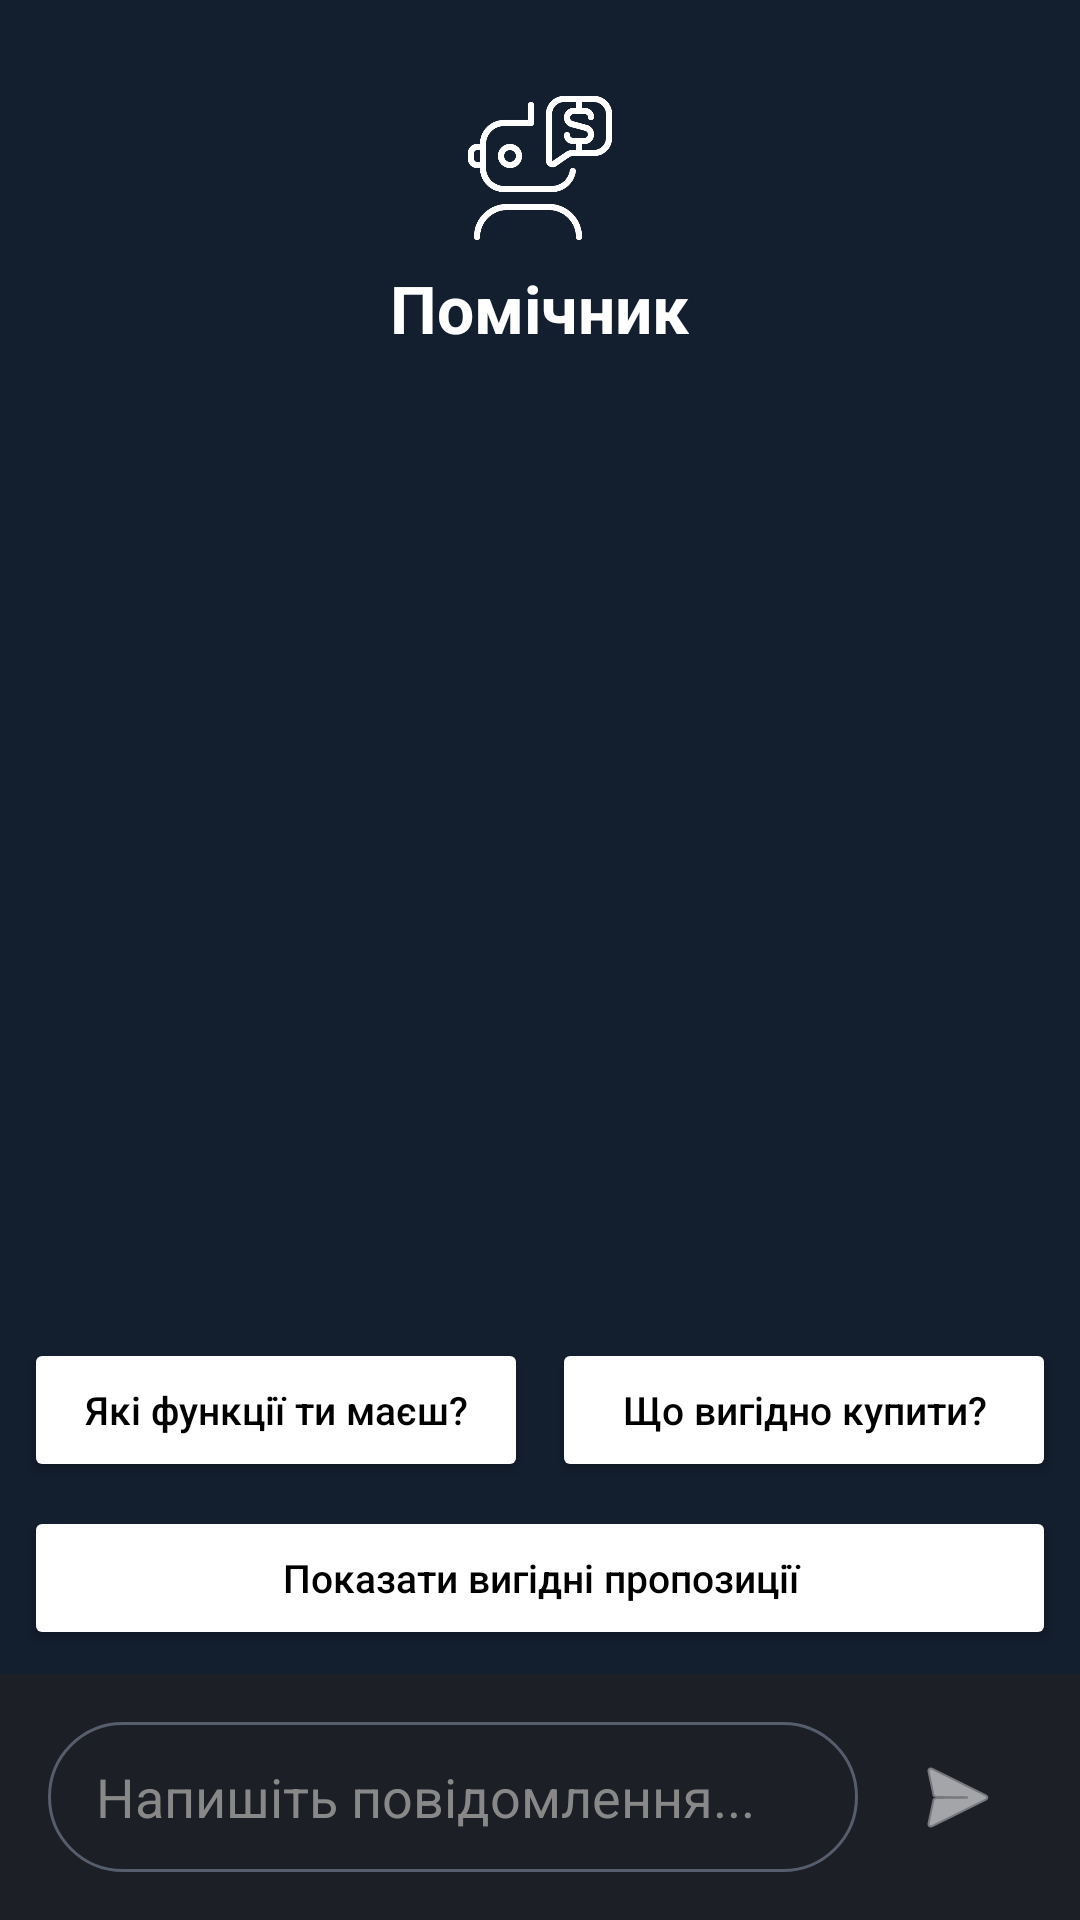

Named icons in this screenshot (1080x1920) and their bounding boxes, [x1=x1, y1=y1, x2=x2, y2=y2]:
robot money: [x1=468, y1=96, x2=612, y2=240]
send: [x1=927, y1=1767, x2=989, y2=1828]
